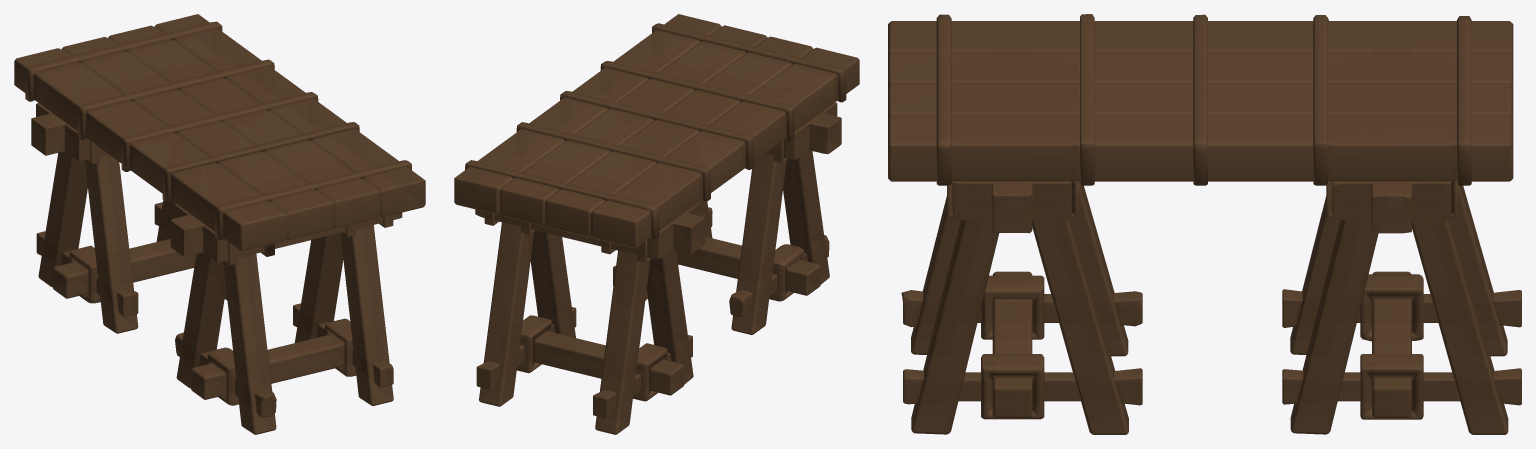
Rendered from SM_Table_01_Unity.fbx.
3 views of the same model, side by side, from view 1: azimuth 30°, elevation 25°; view 2: azimuth 150°, elevation 25°; view 3: azimuth 270°, elevation 25° (orthographic). The views are drawn at different scales.
Visible parts, largest first — view 1: SM_Table_top_low; view 2: SM_Table_top_low; view 3: SM_Table_top_low.
Part boxes in pixels (x1,y1,x2,y2): SM_Table_top_low: (14, 14, 425, 434); SM_Table_top_low: (454, 14, 859, 434); SM_Table_top_low: (888, 14, 1521, 434).
Size of the model in its own units: 120 by 117 by 215.
